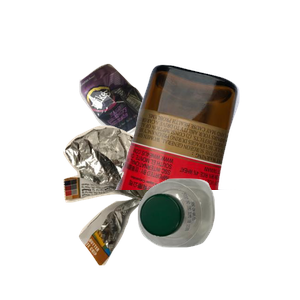glass: (113, 62, 300, 242)
metal: (77, 61, 222, 191)
plastic: (135, 176, 300, 300)
trash: (61, 123, 273, 300)
